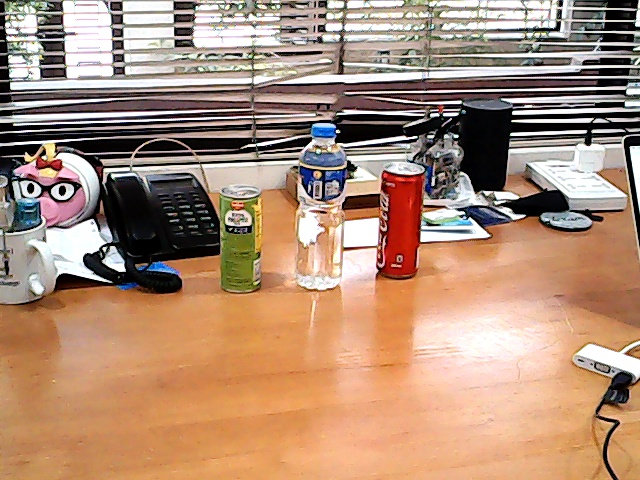Cola: (365, 151, 442, 287)
Pine Juice: (207, 177, 274, 304)
Summit Water: (282, 113, 359, 298)
